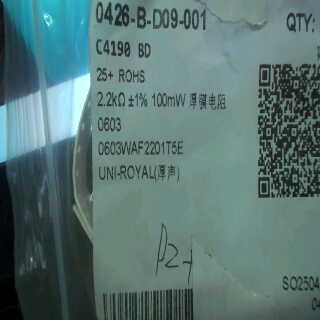2.2kR: (96, 87, 128, 113)
